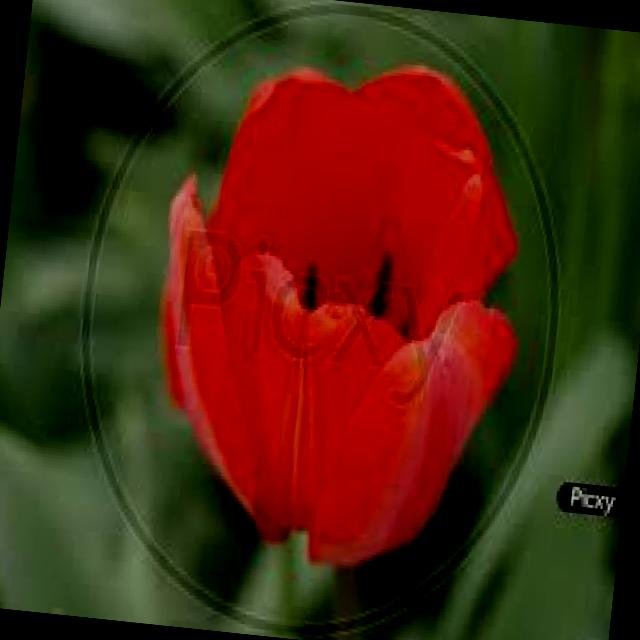tulip: (125, 14, 559, 603)
